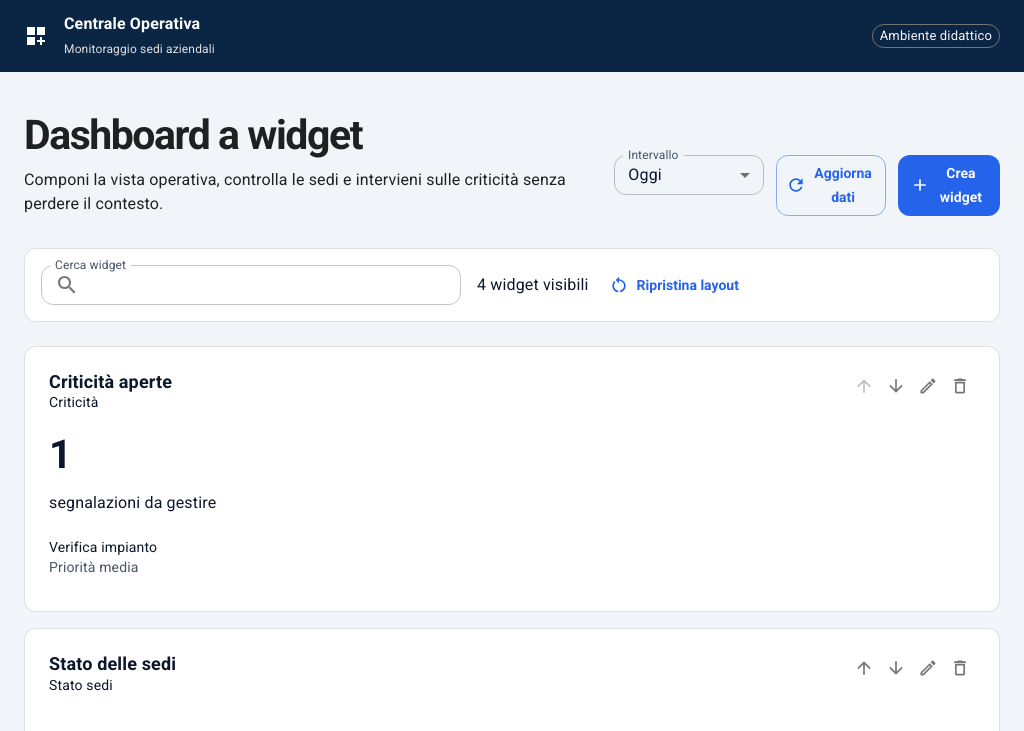
Test: Widget dashboard soluzione › carica i dati e filtra una lista derivata
Expected: the heading "Criticità aperte" is shown, [49,371,172,392]
Type "consumi" into the field labelled "Cerca widget" at (274, 285), box [87,265,461,305]
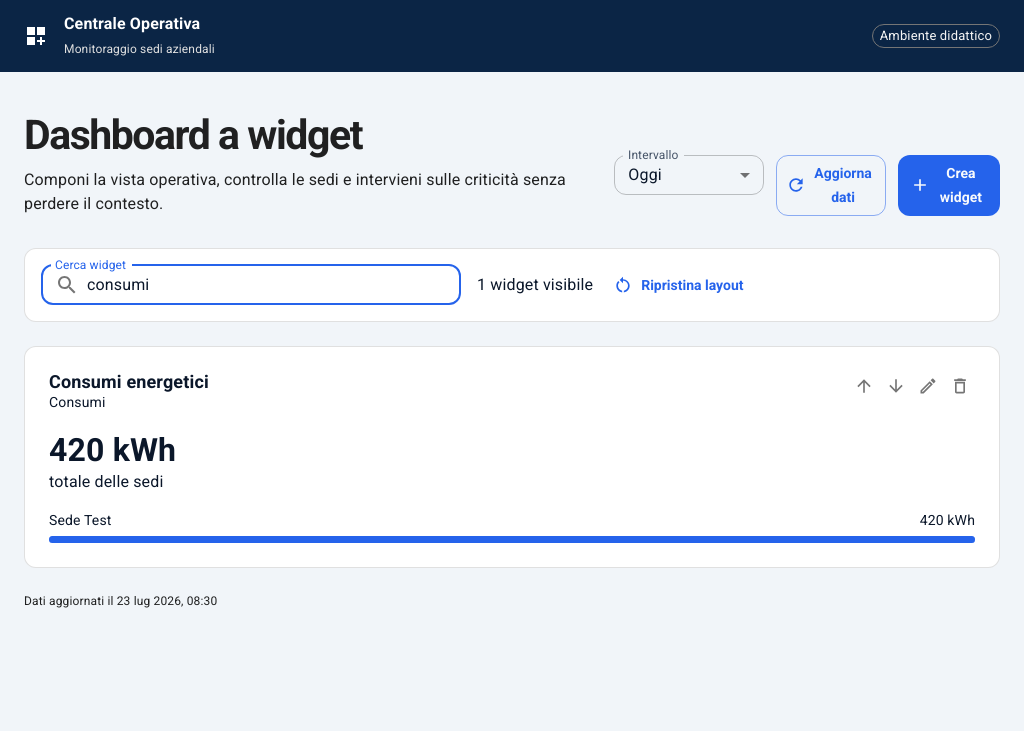
Expected: the heading "Consumi energetici" is shown, [49,371,209,392]
Now the heading "Criticità aperte" is gone
Now the text "1 widget visibile" is shown, box [477,273,593,297]
